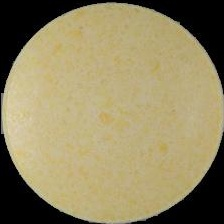54868-0696: (0, 0, 224, 224)
